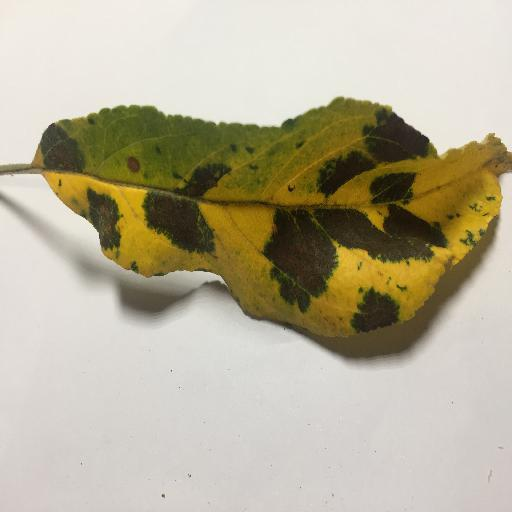Brown_Spot: (252, 105, 437, 332), (134, 161, 214, 258), (41, 125, 92, 191), (71, 188, 120, 253)
